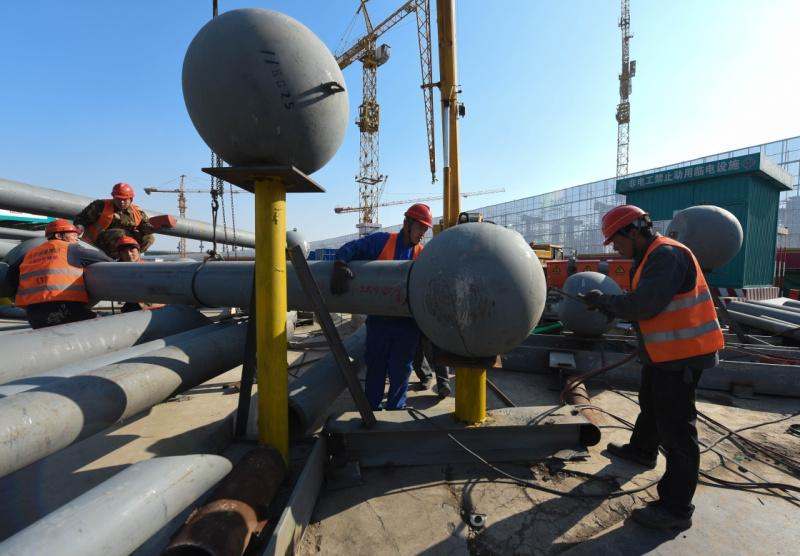helmet: (601, 205, 650, 250), (404, 201, 436, 230), (44, 219, 79, 238), (111, 183, 136, 202)
